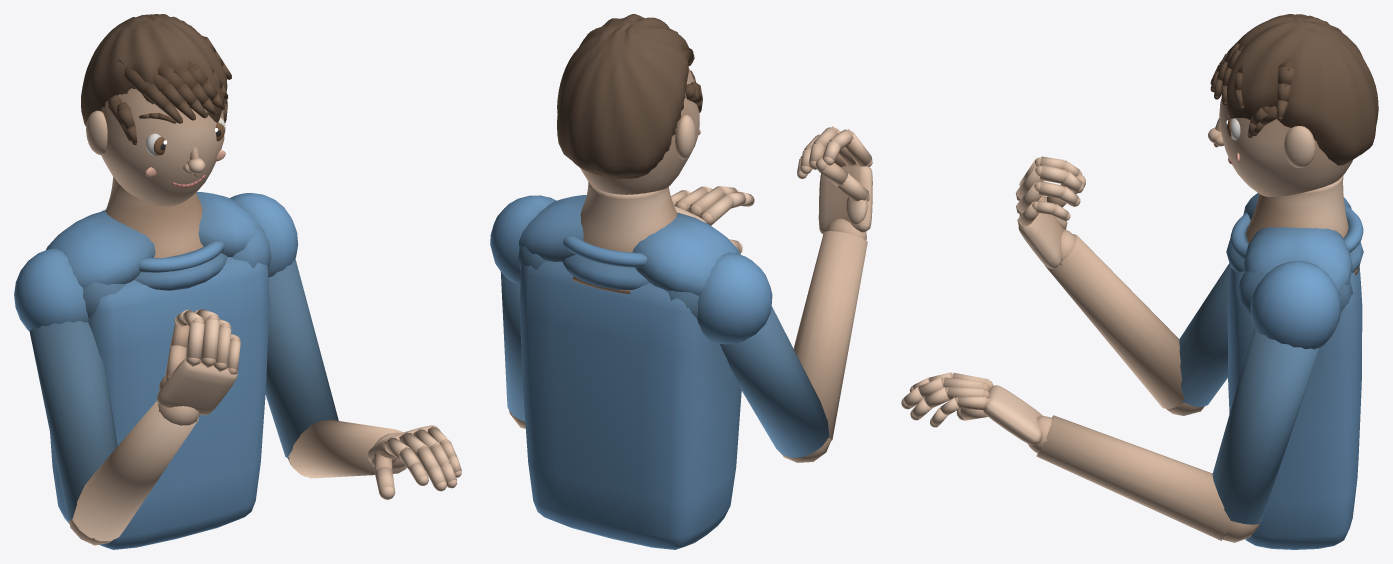
3 renders of one model, left to right at view 1: azimuth 30°, elevation 25°; view 2: azimuth 150°, elevation 25°; view 3: azimuth 270°, elevation 25°, orthographic.
Visible parts, largest first — view 1: LSC_Body; view 2: LSC_Body; view 3: LSC_Body.
Boxes of the visible parts, <box> form: LSC_Body: <box>14,14,461,549</box>; LSC_Body: <box>490,14,872,549</box>; LSC_Body: <box>901,14,1378,549</box>.
Size of the model in its own units: 0.4304 by 0.713 by 0.6104.
